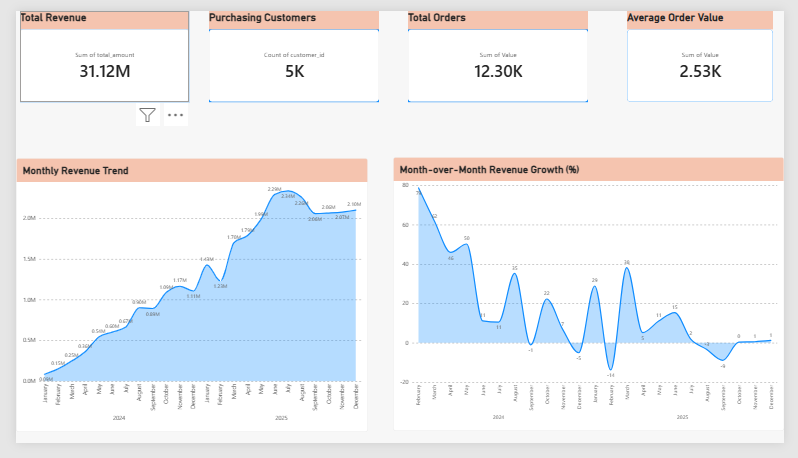

This screenshot's page, from the dashboard's own definition file:
{"tool":"powerbi","page":{"name":"Executive Overview","canvas":[1920,1080],"ordinal":0},"visuals":[{"type":"cardVisual","title":"Total Revenue","fields":{"Data":["Sum(monthly_revenue.total_amount)"]},"box":[10,0,422.5,227.5],"z":0},{"type":"cardVisual","title":"Purchasing Customers","fields":{"Data":["Count(customer_rfm.customer_id)"]},"box":[482.5,0,425,227.5],"z":1000},{"type":"cardVisual","title":"Total Orders","fields":{"Data":["Sum(kpi_summary.Value)"]},"box":[980,0,450,227.5],"z":2000},{"type":"cardVisual","title":"Average Order Value","fields":{"Data":["Sum(kpi_summary.Value)"]},"box":[1527.5,0,365,227.5],"z":3000},{"type":"lineChart","title":"Monthly Revenue Trend","fields":{"Category":["monthly_revenue.order_month.Variation.Date Hierarchy.Year","monthly_revenue.order_month.Variation.Date Hierarchy.Month"],"Y":["Sum(monthly_revenue.total_amount)"]},"box":[0,368,880,685],"z":4000},{"type":"lineChart","title":"Month-over-Month Revenue Growth (%)","fields":{"Category":["monthly_revenue.order_month.Variation.Date Hierarchy.Year","monthly_revenue.order_month.Variation.Date Hierarchy.Month"],"Y":["Avg(monthly_revenue.mom_growth_pct)"]},"box":[942.5,365,977.5,685],"z":5000}]}

Visuals, with their boxes in screenshot pixels (x1, y1, x2, y2), scaled from the page's 1920x1080 canvas onto the 798x458 screenshot:
"Total Revenue" cardVisual: [left=4, top=0, right=180, bottom=96]
"Purchasing Customers" cardVisual: [left=201, top=0, right=377, bottom=96]
"Total Orders" cardVisual: [left=407, top=0, right=594, bottom=96]
"Average Order Value" cardVisual: [left=635, top=0, right=787, bottom=96]
"Monthly Revenue Trend" lineChart: [left=0, top=156, right=366, bottom=447]
"Month-over-Month Revenue Growth (%)" lineChart: [left=392, top=155, right=797, bottom=445]
